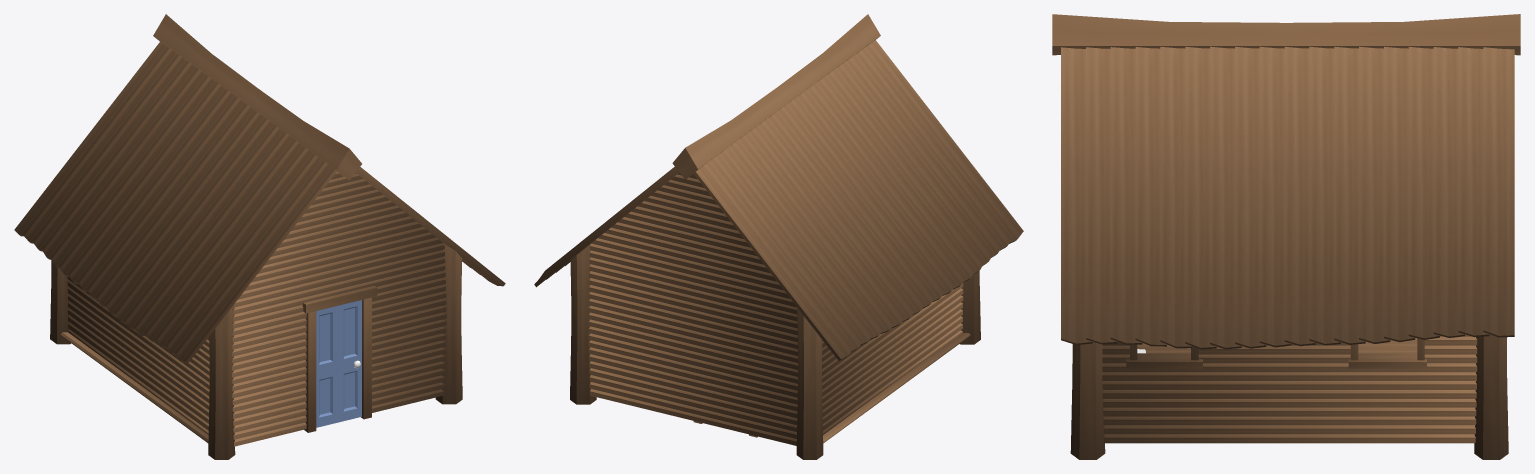
The model's file is Asset_Shackpack.fbx.
3 views of the same model, side by side, from view 1: azimuth 30°, elevation 25°; view 2: azimuth 150°, elevation 25°; view 3: azimuth 270°, elevation 25° (orthographic). The views are drawn at different scales.
Parts seen in each view (by area): view 1: SM_Roof, SM_FrontWalls, SM_Walls, SM_Floor; view 2: SM_Roof, SM_FrontWalls, SM_Walls, SM_Floor; view 3: SM_Roof, SM_Walls, SM_Floor.
Part boxes in pixels (x1=…): SM_Roof: x1=14, y1=14, x2=505, y2=459; SM_FrontWalls: x1=232, y1=171, x2=446, y2=446; SM_Walls: x1=67, y1=276, x2=209, y2=434; SM_Floor: x1=60, y1=332, x2=208, y2=442; SM_Roof: x1=534, y1=14, x2=1023, y2=459; SM_FrontWalls: x1=588, y1=172, x2=798, y2=445; SM_Walls: x1=822, y1=283, x2=963, y2=434; SM_Floor: x1=823, y1=333, x2=970, y2=443; SM_Roof: x1=1052, y1=14, x2=1520, y2=459; SM_Walls: x1=1102, y1=334, x2=1477, y2=443; SM_Floor: x1=1137, y1=338, x2=1417, y2=353.
Size of the model in its own units: 579 by 494 by 569.
